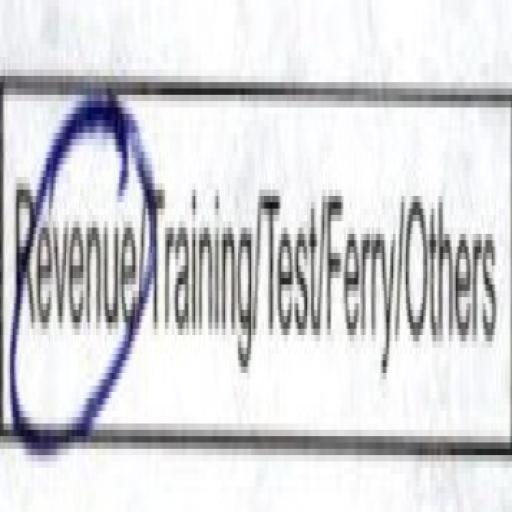check: (6, 13, 154, 512)
